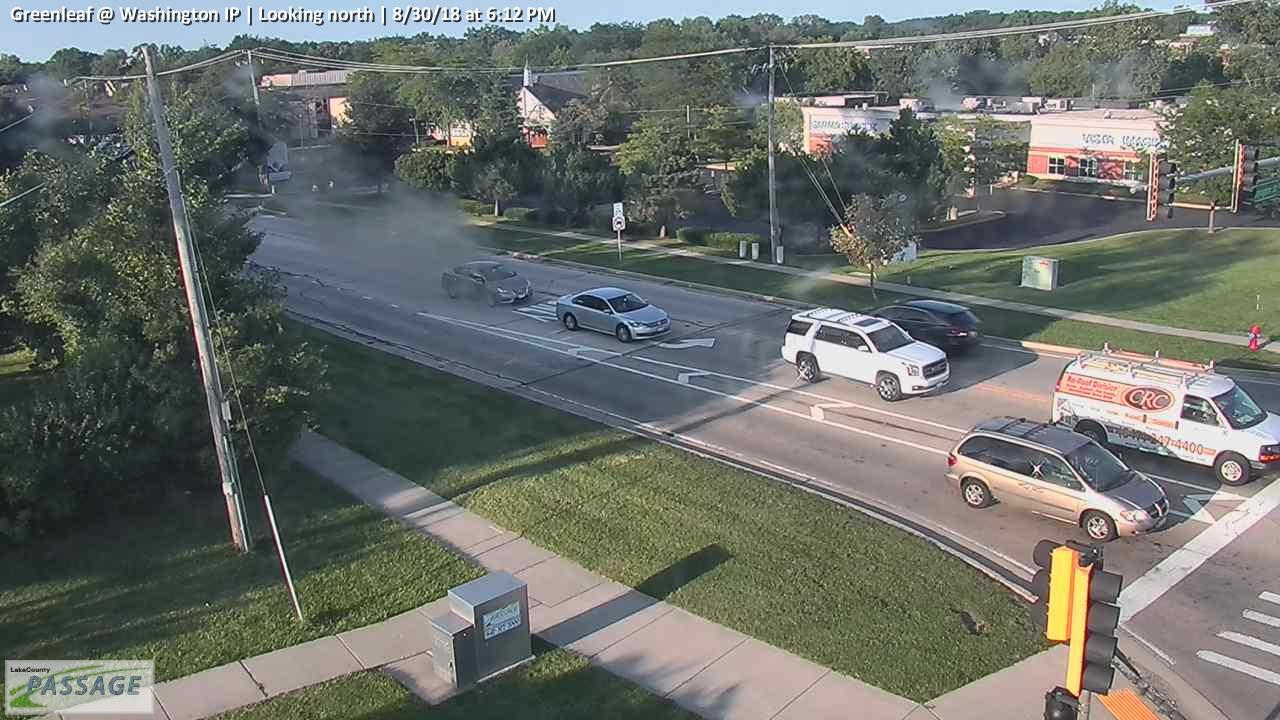SUV: (1051, 343, 1280, 487), (942, 415, 1170, 541), (779, 307, 951, 402), (856, 299, 985, 357)
Sedan: (556, 285, 670, 343), (442, 260, 533, 307)
